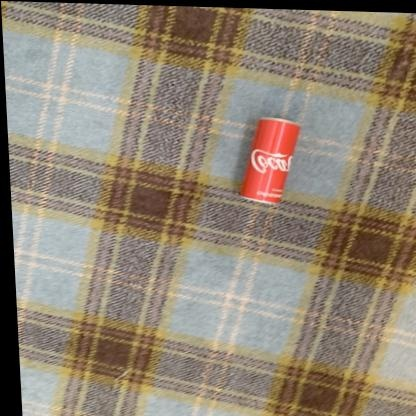trash: (240, 118, 299, 202)
